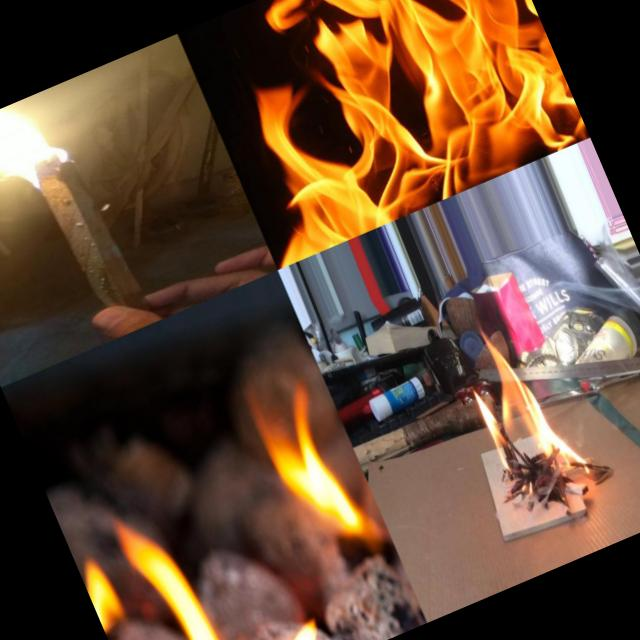fire: (177, 0, 590, 269), (58, 444, 334, 640), (226, 342, 400, 592), (447, 306, 587, 496), (0, 87, 85, 223)
